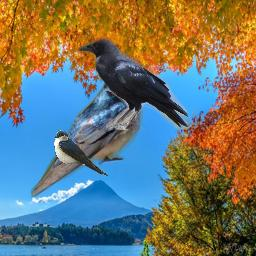Crow: (77, 37, 188, 130)
Swallow: (31, 67, 144, 199), (54, 130, 108, 176)
